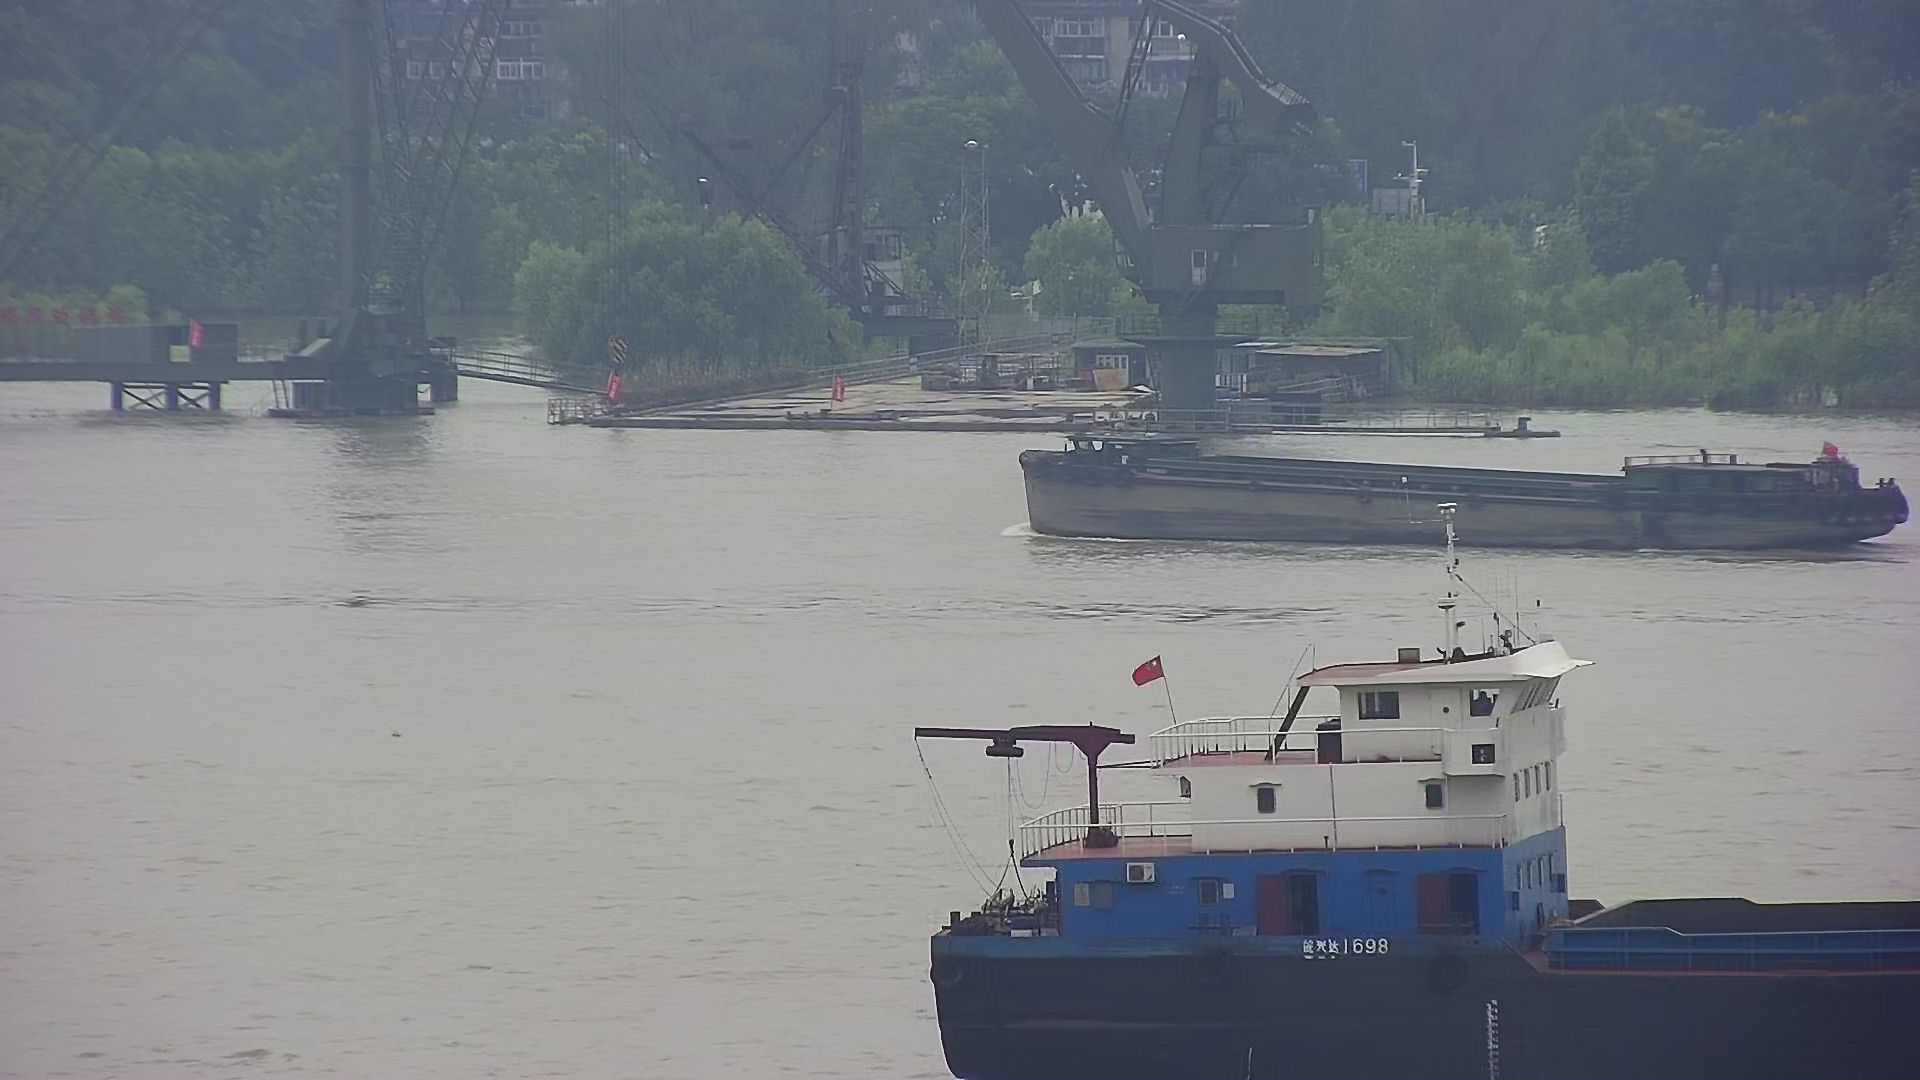platform: (1, 1, 498, 425)
ship: (874, 493, 1920, 1080), (992, 418, 1912, 559)
